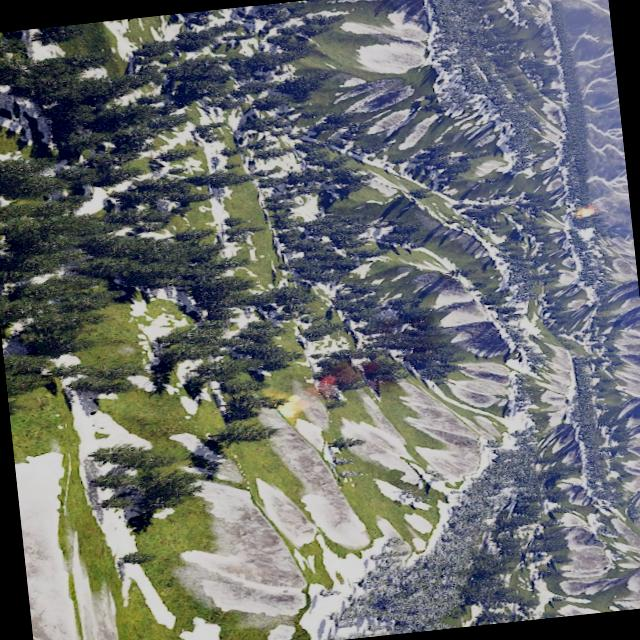fire: (278, 398, 300, 418), (576, 207, 594, 218)
smoke: (296, 352, 394, 408), (592, 192, 632, 229)
